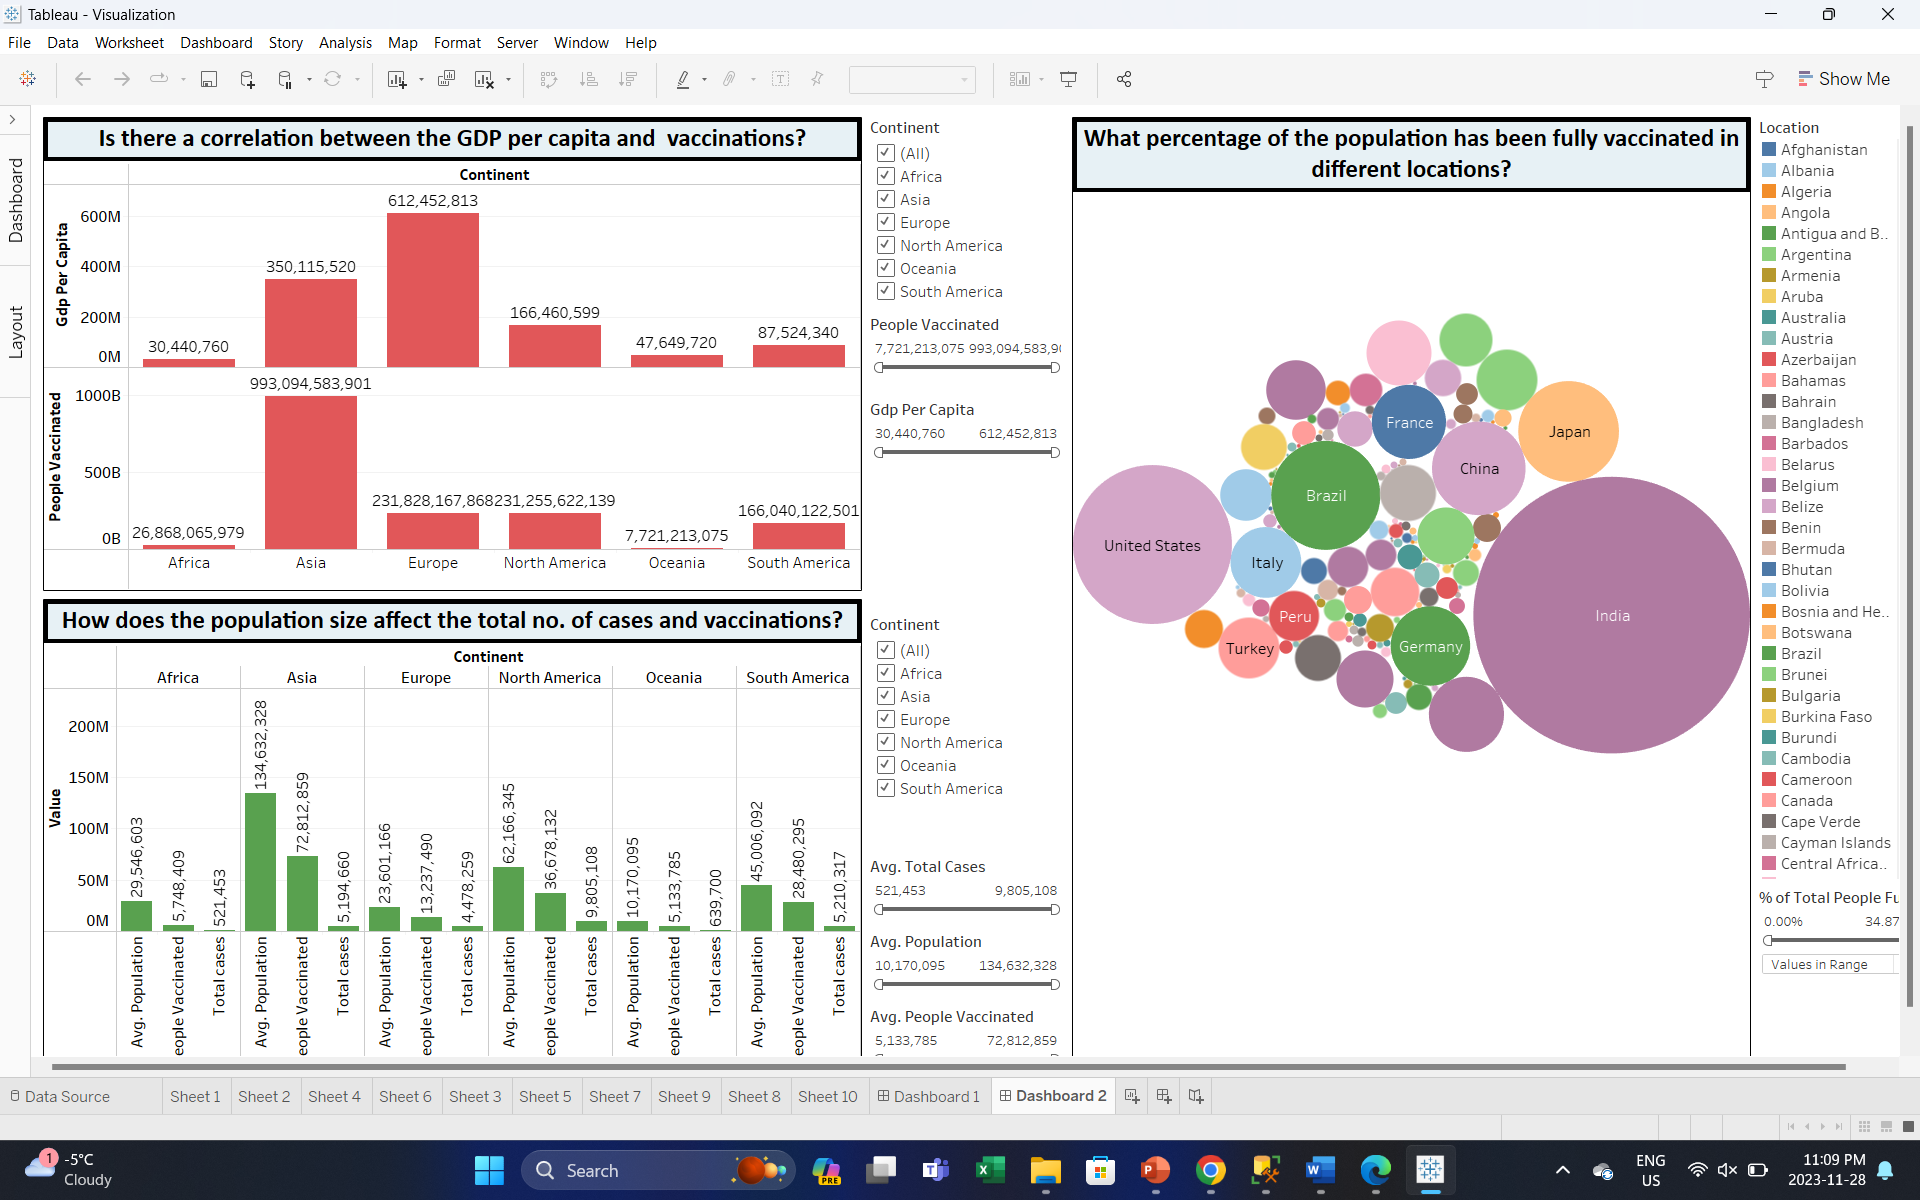

Layout of this report page (visuals, bound fields, positions):
{"tool":"tableau","page":{"name":"Dashboard 2","canvas":[1900,980],"ordinal":1},"visuals":[{"type":"worksheet","title":"Sheet 5","mark":"Automatic","rows":["gdp_per_capita","people_vaccinated"],"cols":["continent"],"box":[8,8,827.1,482]},{"type":"filter","title":"Sheet 5","param":"[federated.1wxy7xx18hhed414g0ycs0h3i0rw].[none:continent:nk]","box":[835.1,8,202,197]},{"type":"worksheet","title":"Sheet 9","mark":"Circle","box":[1037.2,8,686.8,964]},{"type":"legend","title":"Sheet 9","param":"[federated.1wxy7xx18hhed414g0ycs0h3i0rw].[none:location:nk]","box":[1724,8,168,770]},{"type":"filter","title":"Sheet 5","param":"[federated.1wxy7xx18hhed414g0ycs0h3i0rw].[sum:people_vaccinated:qk]","box":[835.1,205,202,85]},{"type":"filter","title":"Sheet 5","param":"[federated.1wxy7xx18hhed414g0ycs0h3i0rw].[sum:gdp_per_capita:qk]","box":[835.1,290,202,215]},{"type":"worksheet","title":"Sheet 7","mark":"Automatic","cols":["continent"],"box":[8,490,827.1,482]},{"type":"filter","title":"Sheet 7","param":"[federated.1wxy7xx18hhed414g0ycs0h3i0rw].[none:continent:nk]","box":[835.1,505,202,242]},{"type":"filter","title":"Sheet 7","param":"[federated.1wxy7xx18hhed414g0ycs0h3i0rw].[avg:total_cases:qk]","box":[835.1,747,202,75]},{"type":"filter","title":"Sheet 9","param":"[federated.1wxy7xx18hhed414g0ycs0h3i0rw].[pcto:sum:people_fully_vaccinated:qk]","box":[1724,778,168,100]},{"type":"filter","title":"Sheet 7","param":"[federated.1wxy7xx18hhed414g0ycs0h3i0rw].[avg:population:qk]","box":[835.1,822,202,75]},{"type":"filter","title":"Sheet 7","param":"[federated.1wxy7xx18hhed414g0ycs0h3i0rw].[avg:people_vaccinated:qk]","box":[835.1,897,202,75]}]}

Visuals, with their boxes in screenshot pixels (x1, y1, x2, y2):
"Sheet 5" worksheet: (left=38, top=113, right=862, bottom=593)
"Sheet 5" filter: (left=862, top=113, right=1064, bottom=309)
"Sheet 9" worksheet (Circle marks): (left=1064, top=113, right=1748, bottom=1074)
"Sheet 9" legend: (left=1748, top=113, right=1915, bottom=880)
"Sheet 5" filter: (left=862, top=309, right=1064, bottom=394)
"Sheet 5" filter: (left=862, top=394, right=1064, bottom=608)
"Sheet 7" worksheet: (left=38, top=593, right=862, bottom=1074)
"Sheet 7" filter: (left=862, top=608, right=1064, bottom=849)
"Sheet 7" filter: (left=862, top=849, right=1064, bottom=924)
"Sheet 9" filter: (left=1748, top=880, right=1915, bottom=980)
"Sheet 7" filter: (left=862, top=924, right=1064, bottom=999)
"Sheet 7" filter: (left=862, top=999, right=1064, bottom=1074)
